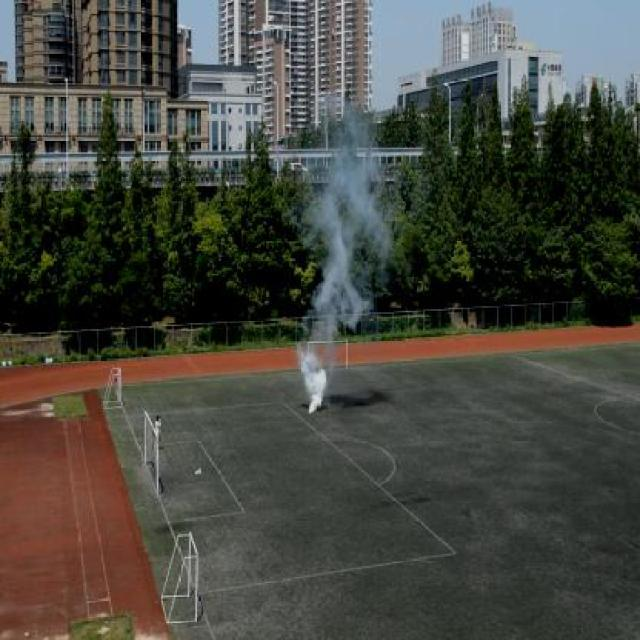Smoke: (286, 93, 394, 414)
